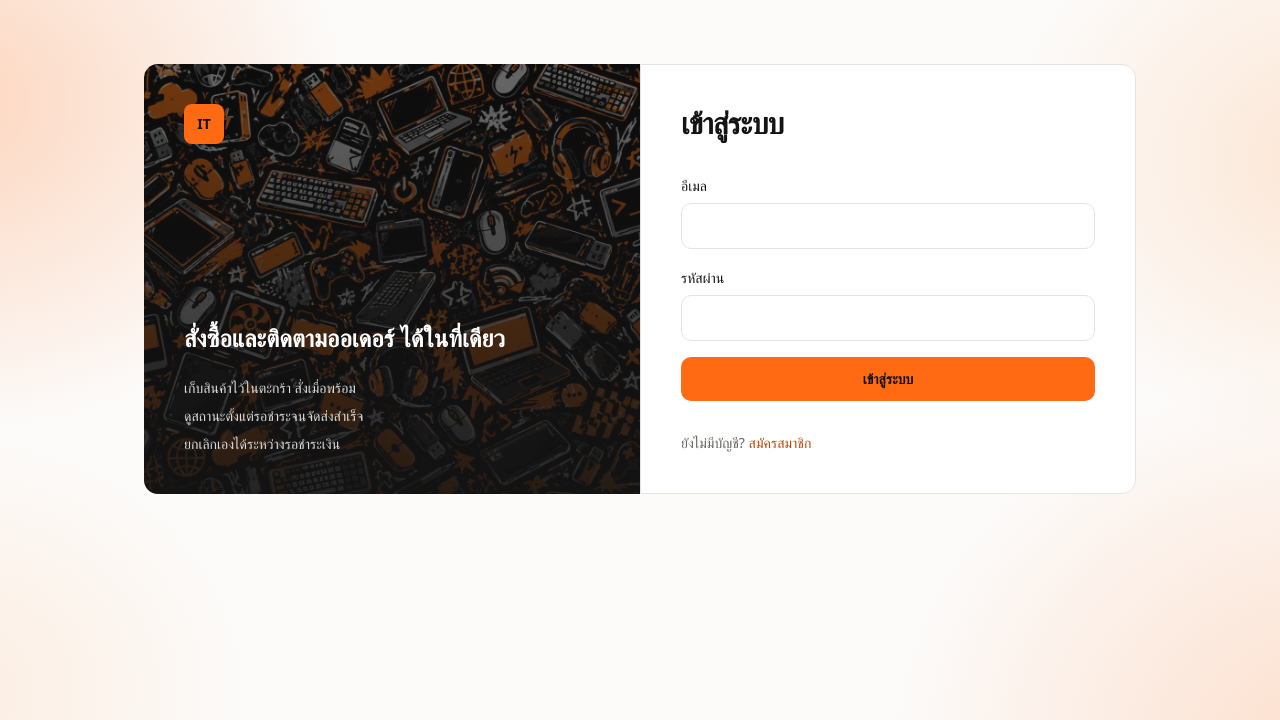
Test case: กดเข้าสู่ระบบโดยไม่กรอก ต้องเห็น error และไม่ยิง API
Click the button "เข้าสู่ระบบ" at {"x": 888, "y": 379}, box [681,357,1095,401]
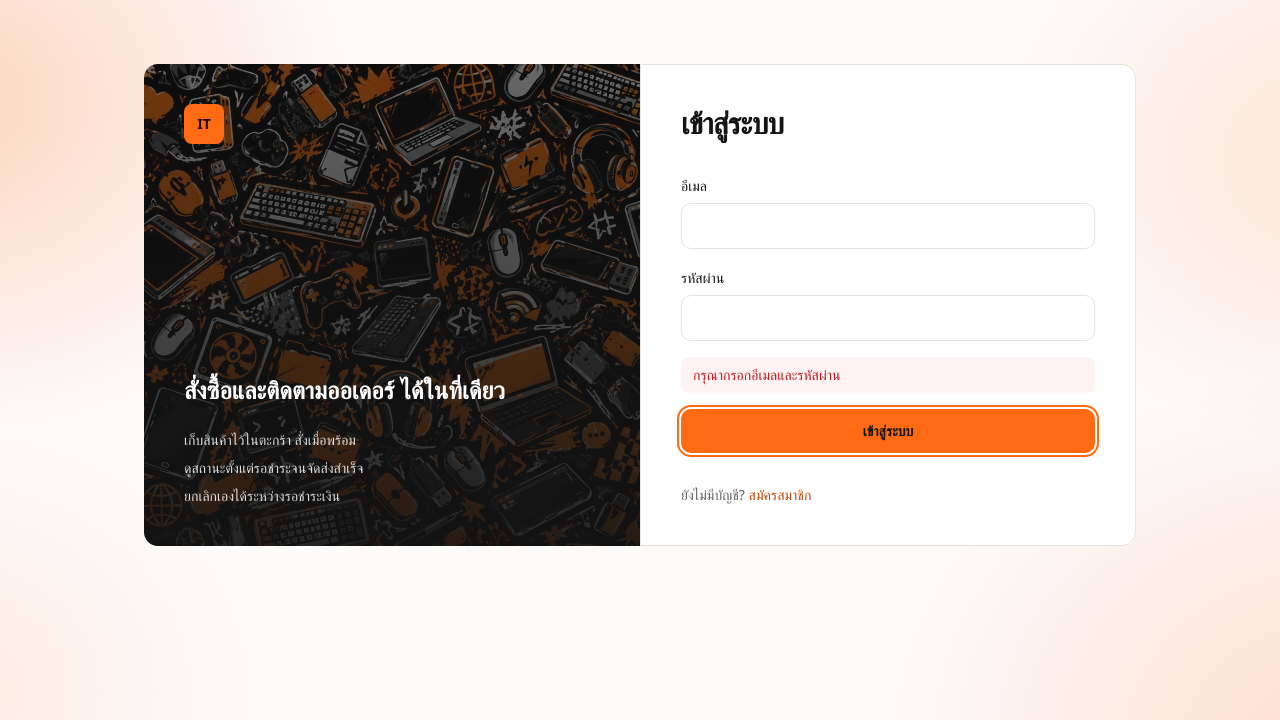
Check: the message reads "กรุณากรอกอีเมลและรหัสผ่าน", box [693,365,840,384]
